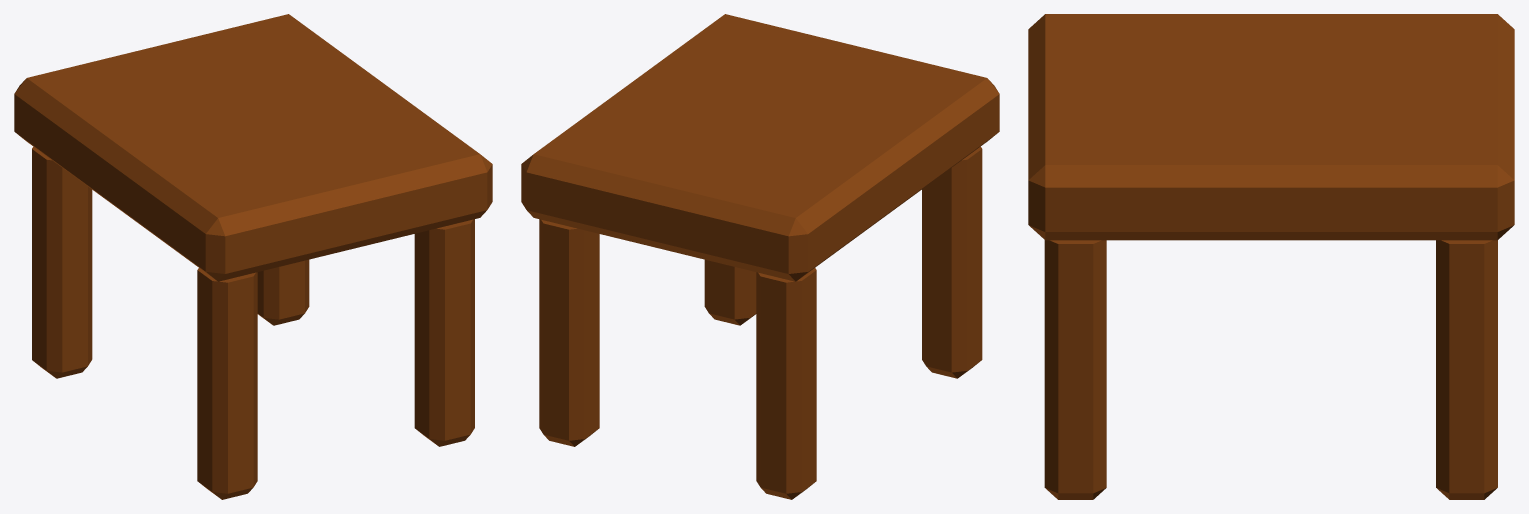
Rendered from side_table_001.FBX.
3 views of the same model, side by side, from view 1: azimuth 30°, elevation 25°; view 2: azimuth 150°, elevation 25°; view 3: azimuth 270°, elevation 25° (orthographic). The views are drawn at different scales.
Parts seen in each view (by area): view 1: Box017; view 2: Box017; view 3: Box017.
Part boxes in pixels (bbox=[...]): Box017: bbox=[14, 14, 492, 499]; Box017: bbox=[521, 14, 999, 499]; Box017: bbox=[1028, 14, 1514, 499].
Bounding box in the file's own units: 0.4627 × 0.4442 × 0.5749.
